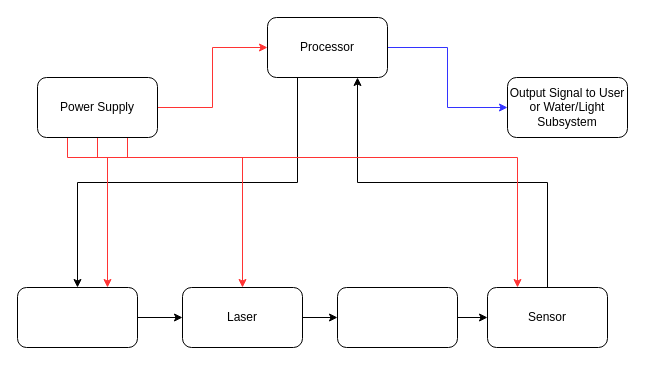
This 645x365 diagram has some shape labels left out. Here are the shapes that lost their labels. From the top down, the centre of each, then its label:
(77,317): Modulator
(397,317): Sample
